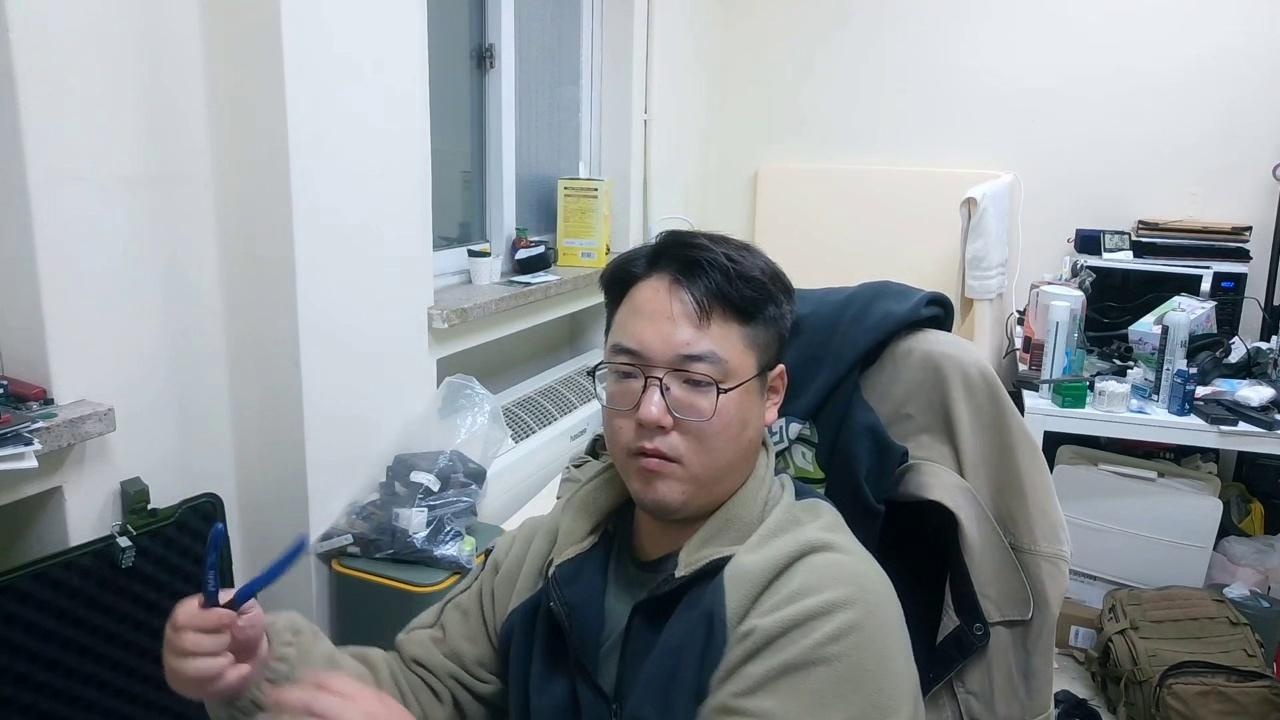blue_pliers: (218, 531, 312, 615)
